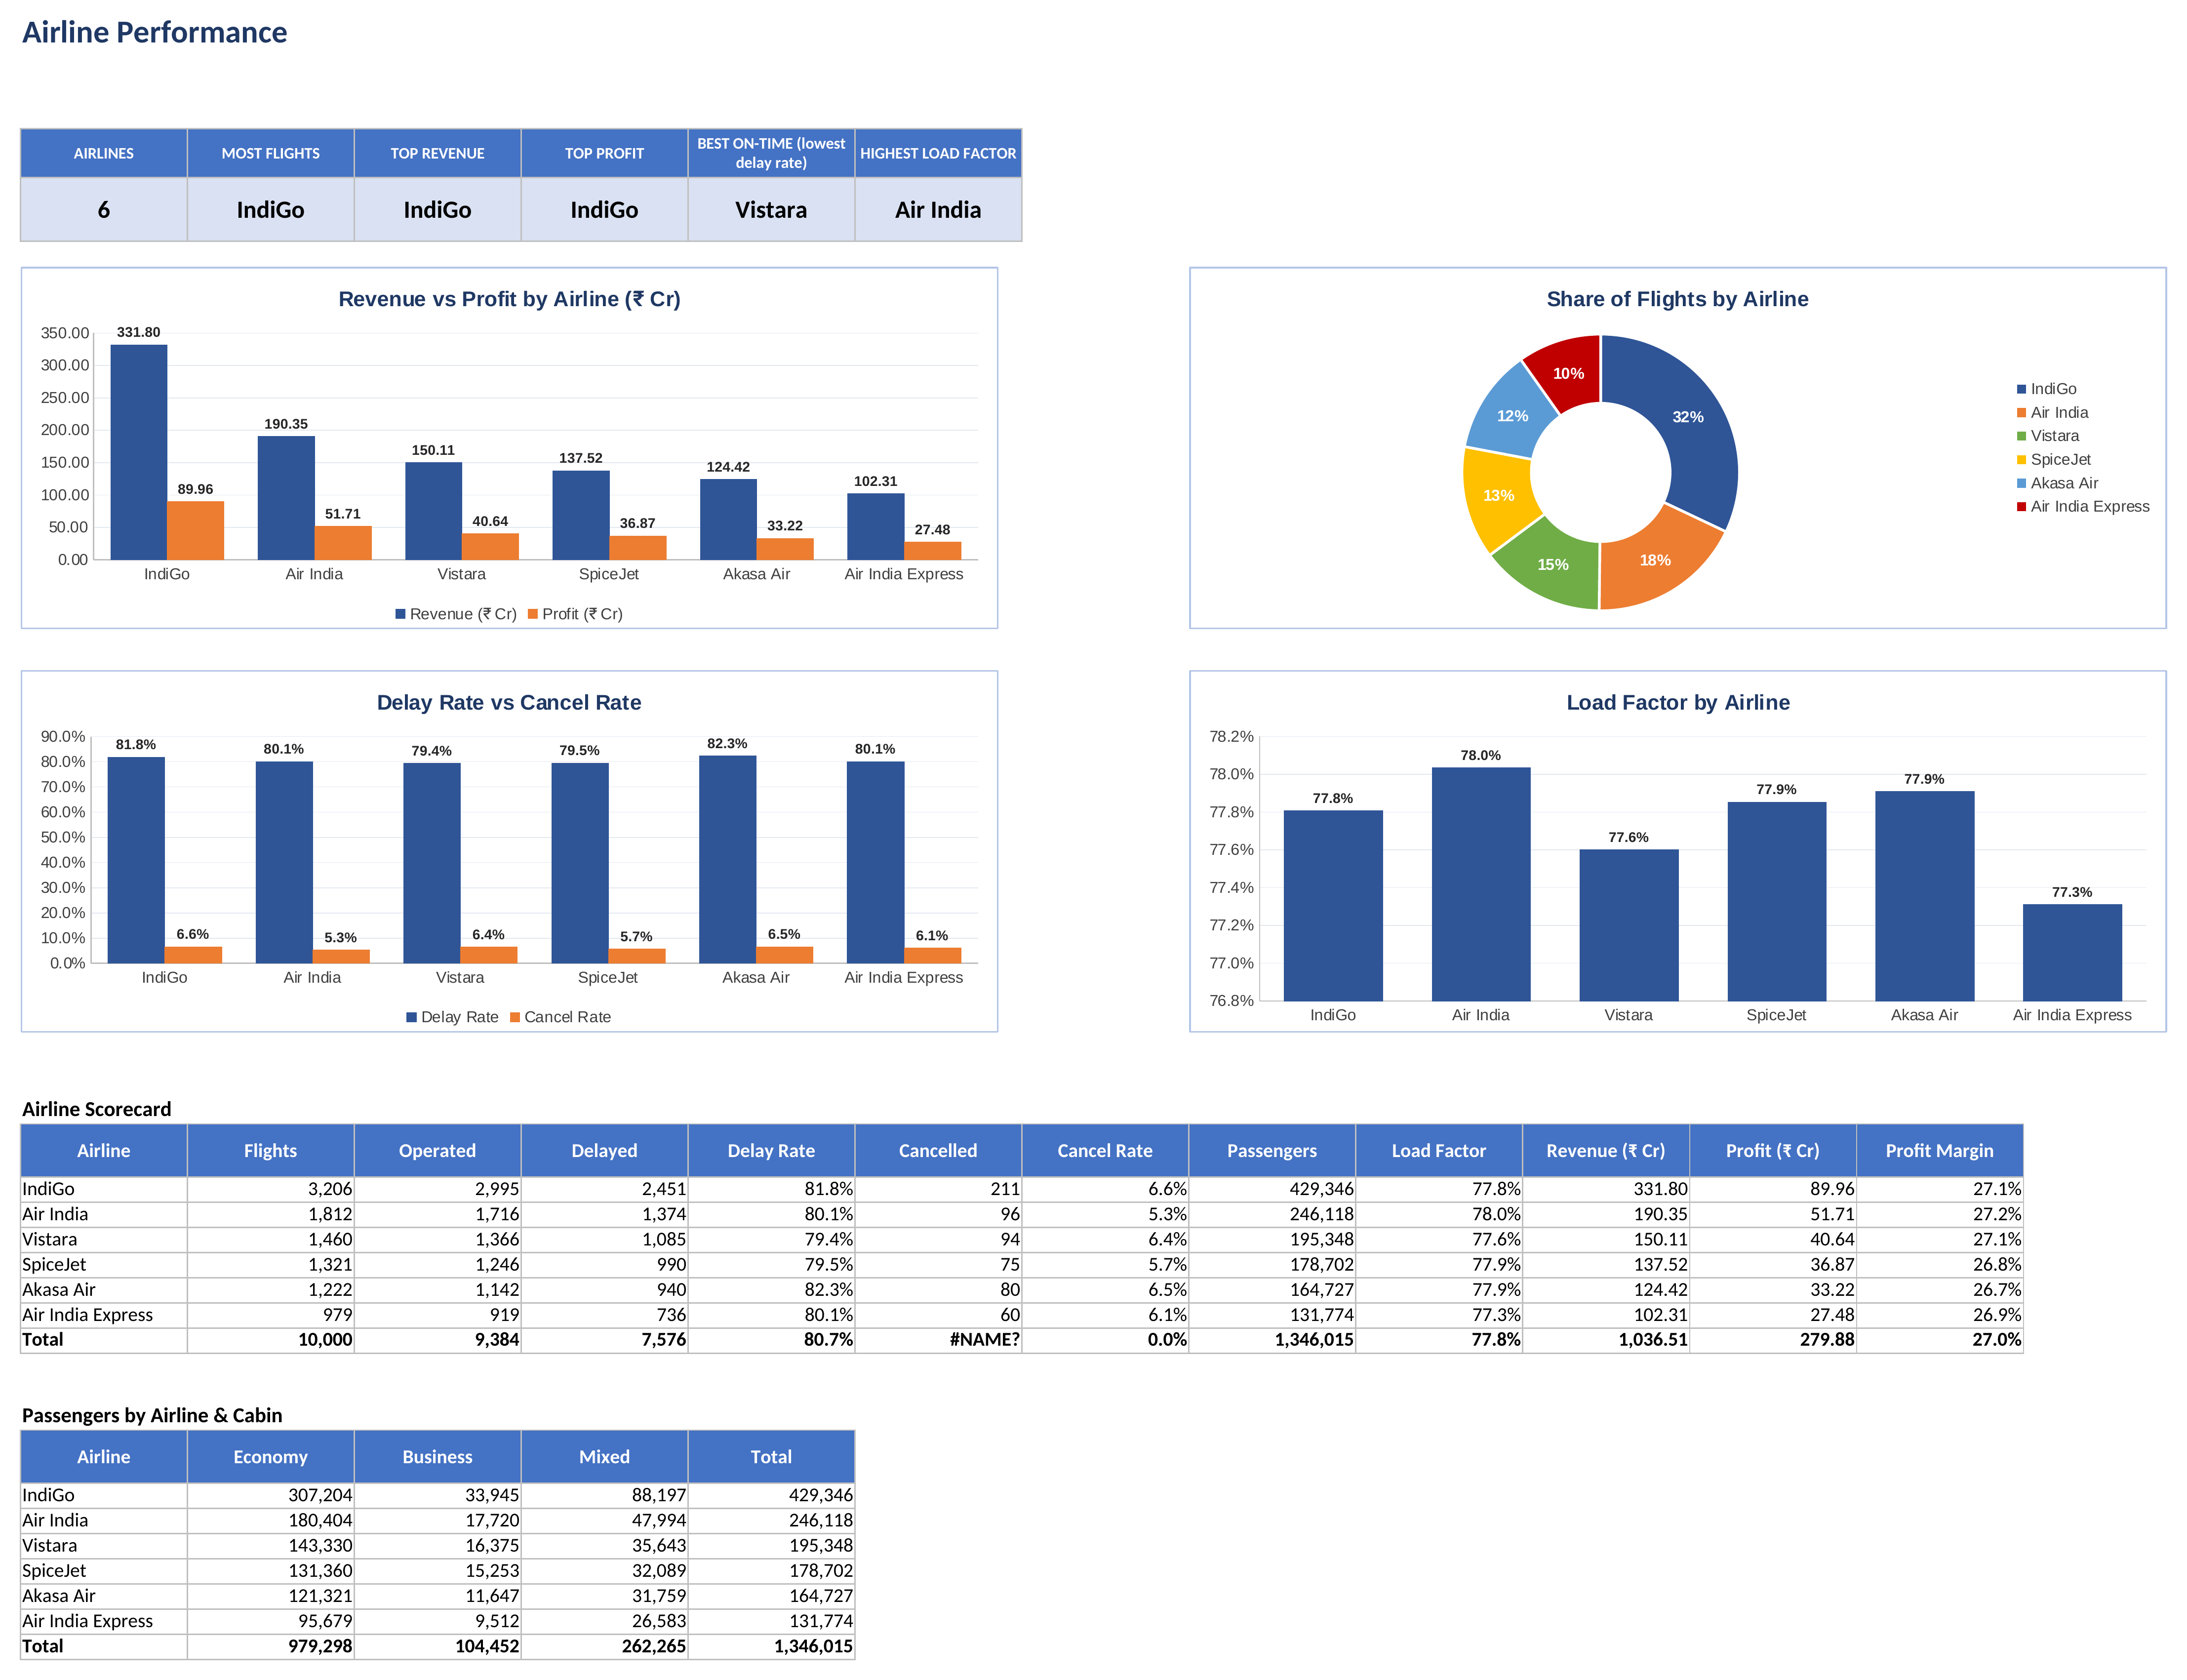

Layout of this report page (visuals, bound fields, positions):
{"tool":"powerbi","page":{"name":"Airline Performance","canvas":[1280,720],"ordinal":7},"visuals":[{"type":"textbox","box":[20,8,700,56],"z":0},{"type":"slicer","fields":{"Values":["Flight_Data.Airline"]},"box":[790,14,230,46],"z":1000},{"type":"slicer","fields":{"Values":["Flight_Data.Month"]},"box":[1035,14,225,46],"z":2000},{"type":"card","fields":{"Values":["Flight_Data.Total Flights"]},"box":[20,72,235.2,95],"z":3000},{"type":"card","fields":{"Values":["Flight_Data.Total Passengers"]},"box":[271.2,72,235.2,95],"z":4000},{"type":"card","fields":{"Values":["Flight_Data.Total Revenue"]},"box":[522.4,72,235.2,95],"z":5000},{"type":"card","fields":{"Values":["Flight_Data.Total Profit"]},"box":[773.6,72,235.2,95],"z":6000},{"type":"card","fields":{"Values":["Flight_Data.Profit Margin"]},"box":[1024.8,72,235.2,95],"z":7000},{"type":"clusteredColumnChart","title":"Flights by Airline","fields":{"Category":["Flight_Data.Airline"],"Y":["Flight_Data.Total Flights"]},"box":[20,180,400,250],"z":7000},{"type":"clusteredColumnChart","title":"Revenue by Airline","fields":{"Category":["Flight_Data.Airline"],"Y":["Flight_Data.Total Revenue"]},"box":[435,180,400,250],"z":8000},{"type":"clusteredColumnChart","title":"Profit by Airline","fields":{"Category":["Flight_Data.Airline"],"Y":["Flight_Data.Total Profit"]},"box":[850,180,410,250],"z":9000},{"type":"tableEx","title":"Airline Summary","fields":{"Values":["Flight_Data.Airline","Flight_Data.Total Flights","Flight_Data.Delay Rate","Flight_Data.Cancellation Rate","Flight_Data.Total Passengers","Flight_Data.Total Revenue","Flight_Data.Total Profit"]},"box":[20,440,1240,265],"z":10000}]}

Visuals, with their boxes on the page's 1280x720 design canvas (x1, y1, x2, y2). These are canvas units, not pixel positions in the 2187x1680 screenshot, which may show the page scaled, cropped or inside an application window:
textbox: 20 8 720 64
slicer - Flight_Data.Airline: 790 14 1020 60
slicer - Flight_Data.Month: 1035 14 1260 60
card - Flight_Data.Total Flights: 20 72 255 167
card - Flight_Data.Total Passengers: 271 72 506 167
card - Flight_Data.Total Revenue: 522 72 758 167
card - Flight_Data.Total Profit: 774 72 1009 167
card - Flight_Data.Profit Margin: 1025 72 1260 167
"Flights by Airline" clusteredColumnChart: 20 180 420 430
"Revenue by Airline" clusteredColumnChart: 435 180 835 430
"Profit by Airline" clusteredColumnChart: 850 180 1260 430
"Airline Summary" tableEx: 20 440 1260 705
